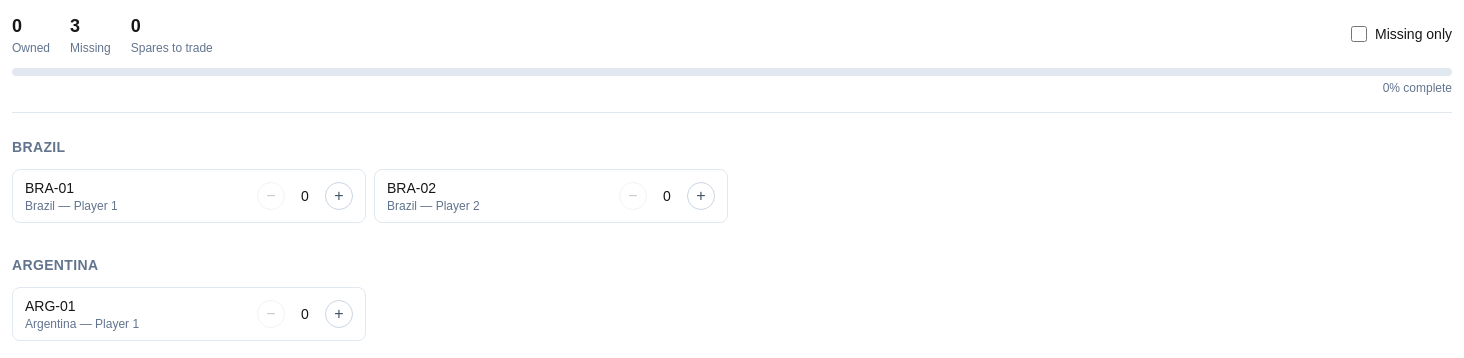
CollectionTracker › increments a sticker and reflects it in the stats
Click the button "+" in the row of "BRA-01". click: (339, 196)
box: [325, 182, 353, 210]
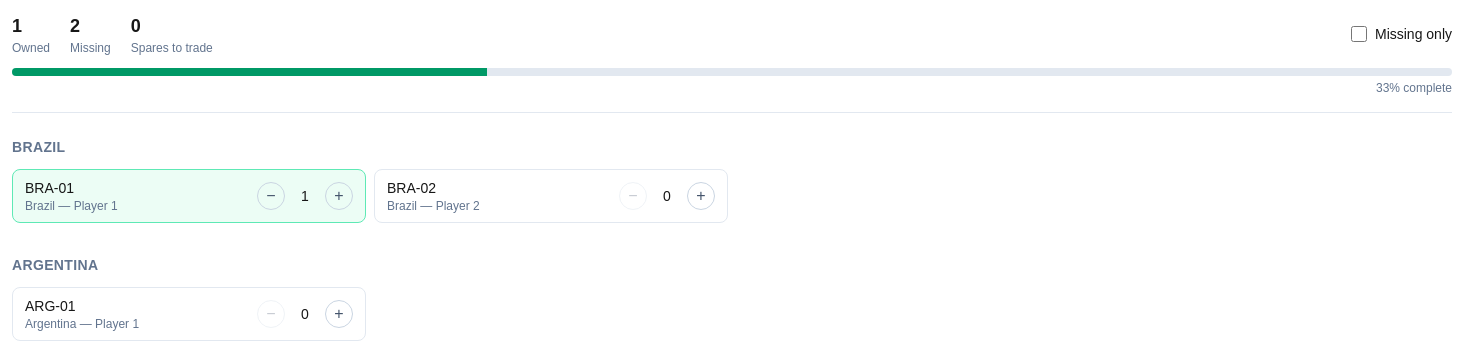
Expected: the text "1" in the row of "Missing only" is shown, [12, 16, 22, 36]
